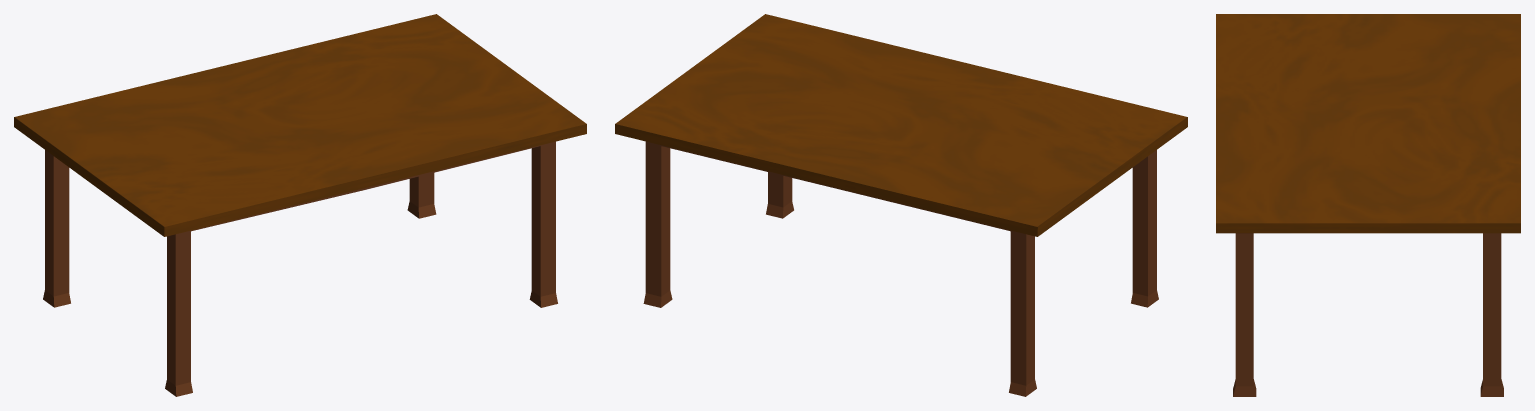
The model's file is DinnerTable.fbx.
The picture shows the model from 3 angles, left to right: view 1: azimuth 30°, elevation 25°; view 2: azimuth 150°, elevation 25°; view 3: azimuth 270°, elevation 25°; orthographic projection.
Visible parts, largest first — view 1: Cube.011, DinnerTable; view 2: Cube.011, DinnerTable; view 3: Cube.011, DinnerTable.
Part boxes in pixels (left/top/right/bottom): Cube.011: left=14, top=14, right=586, bottom=236; DinnerTable: left=43, top=141, right=557, bottom=396; Cube.011: left=615, top=14, right=1187, bottom=236; DinnerTable: left=643, top=141, right=1158, bottom=396; Cube.011: left=1216, top=14, right=1520, bottom=233; DinnerTable: left=1233, top=233, right=1503, bottom=396.
Size of the model in its own units: 220 by 90.1 by 135.
